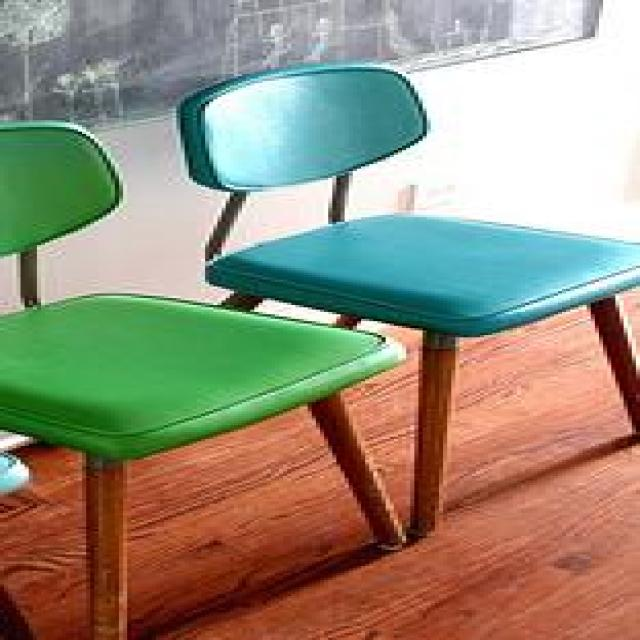chair: (162, 62, 640, 535)
